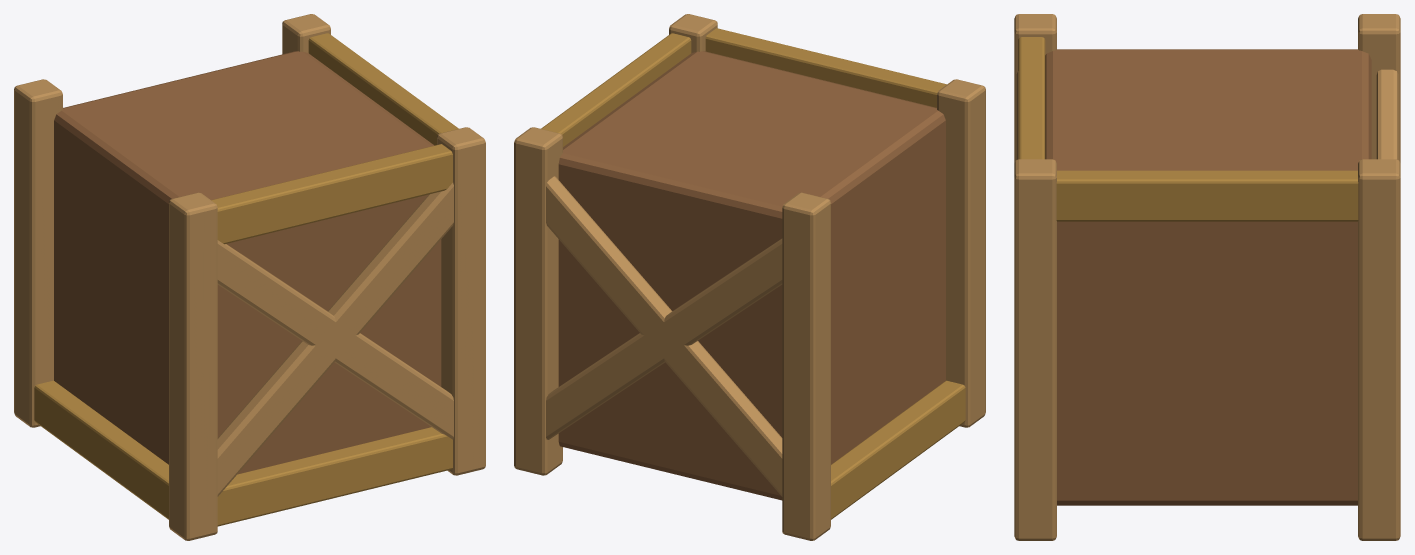
File: crate.glb
3 views of the same model, side by side, from view 1: azimuth 30°, elevation 25°; view 2: azimuth 150°, elevation 25°; view 3: azimuth 270°, elevation 25° (orthographic). The views are drawn at different scales.
Parts seen in each view (by area): view 1: Body, Corner_-0.445_-0.445, Corner_0.445_-0.445, Corner_-0.445_0.445, CrossFrontB, Frame1, Frame0, CrossFrontA, Frame2, Frame3, Corner_0.445_0.445; view 2: Body, Corner_-0.445_0.445, Corner_0.445_0.445, CrossBackB, Corner_-0.445_-0.445, CrossBackA, Frame2, Frame1, Frame3, Corner_0.445_-0.445; view 3: Body, Corner_0.445_0.445, Corner_0.445_-0.445, Frame3, Frame1, Corner_-0.445_0.445, CrossBackA, Corner_-0.445_-0.445.
Part boxes in pixels (x1=…): Body: x1=54, y1=51, x2=441, y2=474; Corner_-0.445_-0.445: x1=169, y1=192, x2=217, y2=540; Corner_0.445_-0.445: x1=437, y1=127, x2=485, y2=475; Corner_-0.445_0.445: x1=14, y1=79, x2=62, y2=427; CrossFrontB: x1=217, y1=183, x2=453, y2=496; Frame1: x1=211, y1=144, x2=452, y2=244; Frame0: x1=217, y1=427, x2=452, y2=526; CrossFrontA: x1=217, y1=240, x2=453, y2=439; Frame2: x1=34, y1=380, x2=168, y2=519; Frame3: x1=308, y1=33, x2=458, y2=145; Corner_0.445_0.445: x1=282, y1=14, x2=330, y2=54; Body: x1=558, y1=51, x2=945, y2=500; Corner_-0.445_0.445: x1=782, y1=192, x2=830, y2=540; Corner_0.445_0.445: x1=514, y1=127, x2=562, y2=475; CrossBackB: x1=546, y1=176, x2=782, y2=496; Corner_-0.445_-0.445: x1=937, y1=79, x2=985, y2=427; CrossBackA: x1=546, y1=238, x2=782, y2=439; Frame2: x1=831, y1=380, x2=965, y2=519; Frame1: x1=705, y1=28, x2=946, y2=107; Frame3: x1=541, y1=33, x2=691, y2=146; Corner_0.445_-0.445: x1=669, y1=14, x2=717, y2=52; Body: x1=1045, y1=49, x2=1371, y2=505; Corner_0.445_0.445: x1=1358, y1=159, x2=1400, y2=540; Corner_0.445_-0.445: x1=1014, y1=159, x2=1056, y2=540; Frame3: x1=1056, y1=170, x2=1358, y2=221; Frame1: x1=1018, y1=37, x2=1045, y2=159; Corner_-0.445_0.445: x1=1358, y1=14, x2=1400, y2=162; CrossBackA: x1=1376, y1=69, x2=1398, y2=159; Corner_-0.445_-0.445: x1=1014, y1=14, x2=1056, y2=162.
Bounding box in the file's own units: 1 × 1.05 × 1.
